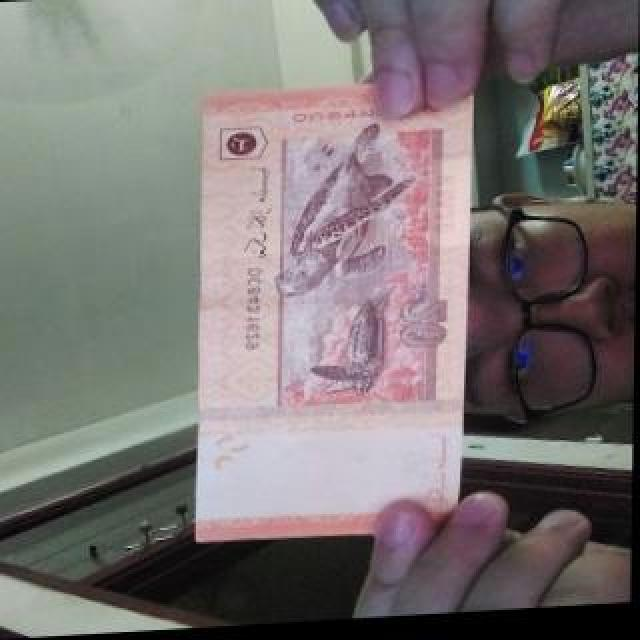20 Ringgit: (194, 78, 469, 543)
